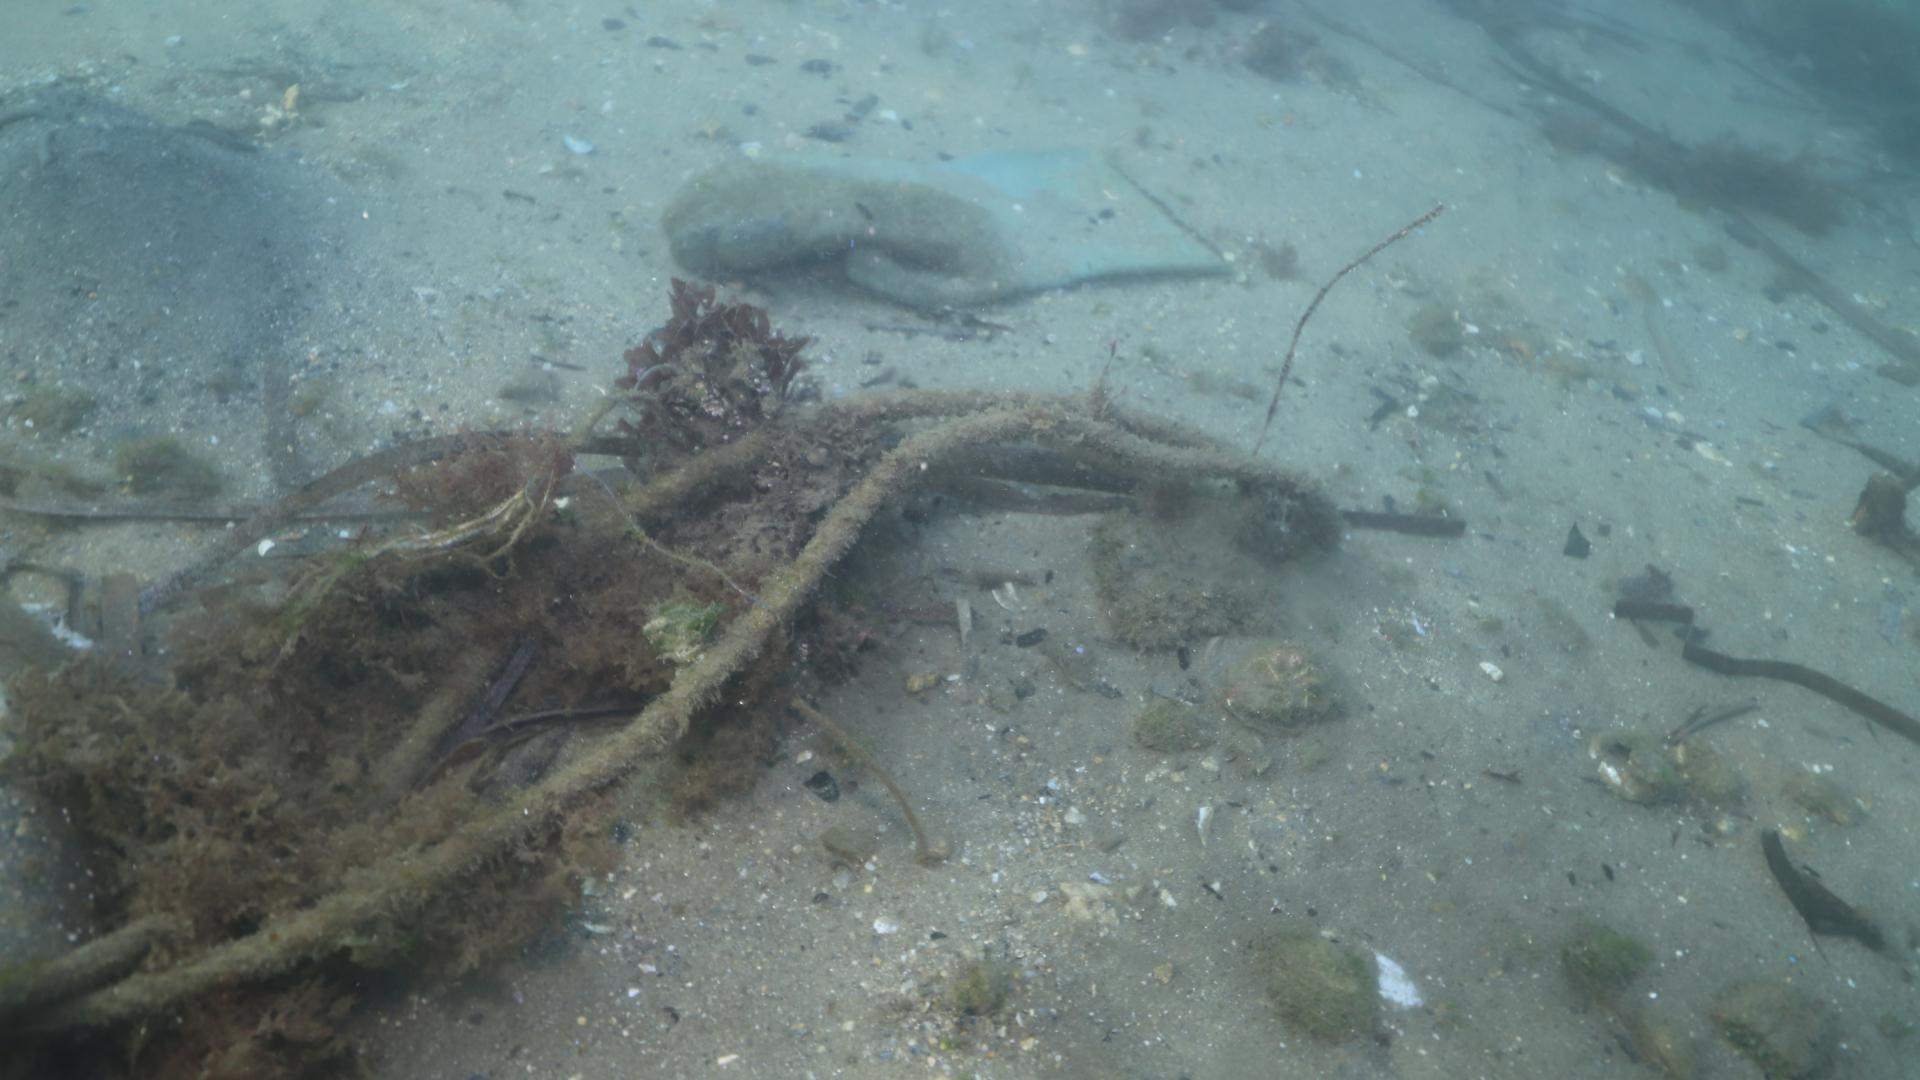bundle of ropes: (0, 385, 1338, 1033)
